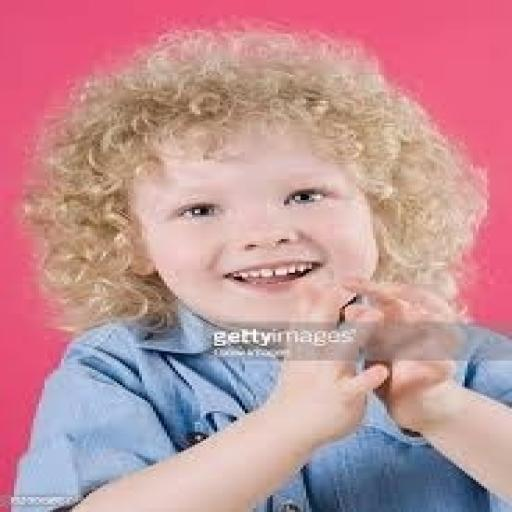clapping: (8, 19, 510, 510)
